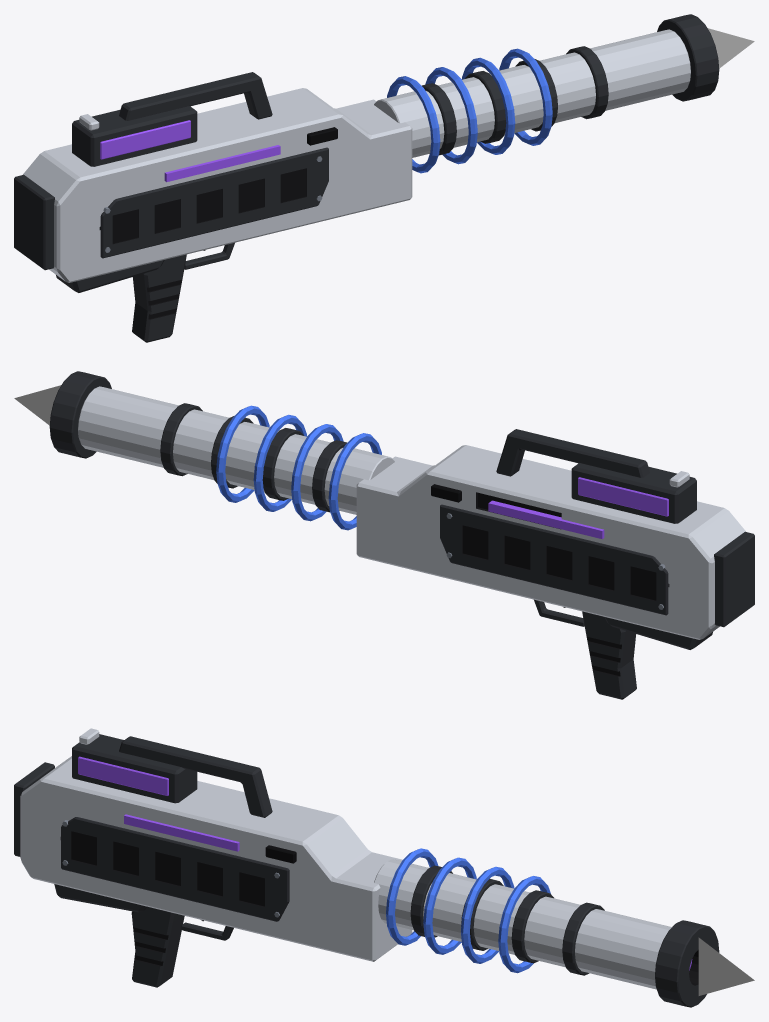
File: ion_cannon42.obj
3 views of the same model, one above another, from view 1: azimuth 30°, elevation 25°; view 2: azimuth 150°, elevation 25°; view 3: azimuth 330°, elevation 25° (orthographic).
Visible parts, largest first — view 1: body, barrel, cell, muzzle_0; view 2: body, barrel, cell, muzzle_0; view 3: body, barrel, cell, muzzle_0.
Part boxes in pixels (x1,y1,x2,y2): body: [14, 48, 552, 342]; barrel: [374, 14, 719, 157]; cell: [72, 106, 197, 166]; muzzle_0: [707, 28, 754, 68]; body: [216, 405, 754, 699]; barrel: [49, 371, 394, 514]; cell: [571, 463, 696, 523]; muzzle_0: [14, 385, 61, 425]; body: [14, 736, 550, 987]; barrel: [374, 859, 719, 1007]; cell: [72, 728, 197, 803]; muzzle_0: [698, 937, 754, 995].
Bounding box in the file's own units: 0.8917 × 0.2766 × 0.1063.
